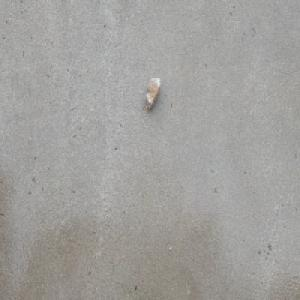Rock: (143, 75, 161, 111)
